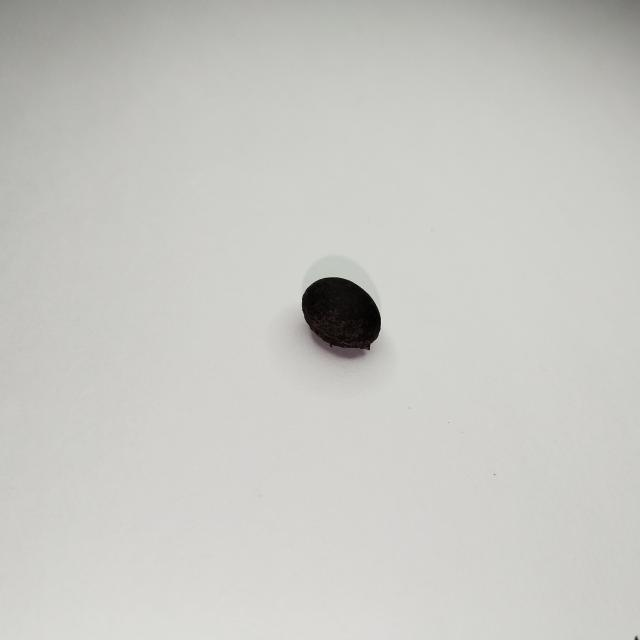Danado: (303, 278, 381, 350)
